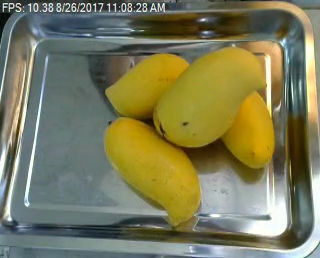Mango: (150, 46, 266, 149), (101, 116, 202, 226), (106, 51, 191, 119), (221, 89, 281, 170)
